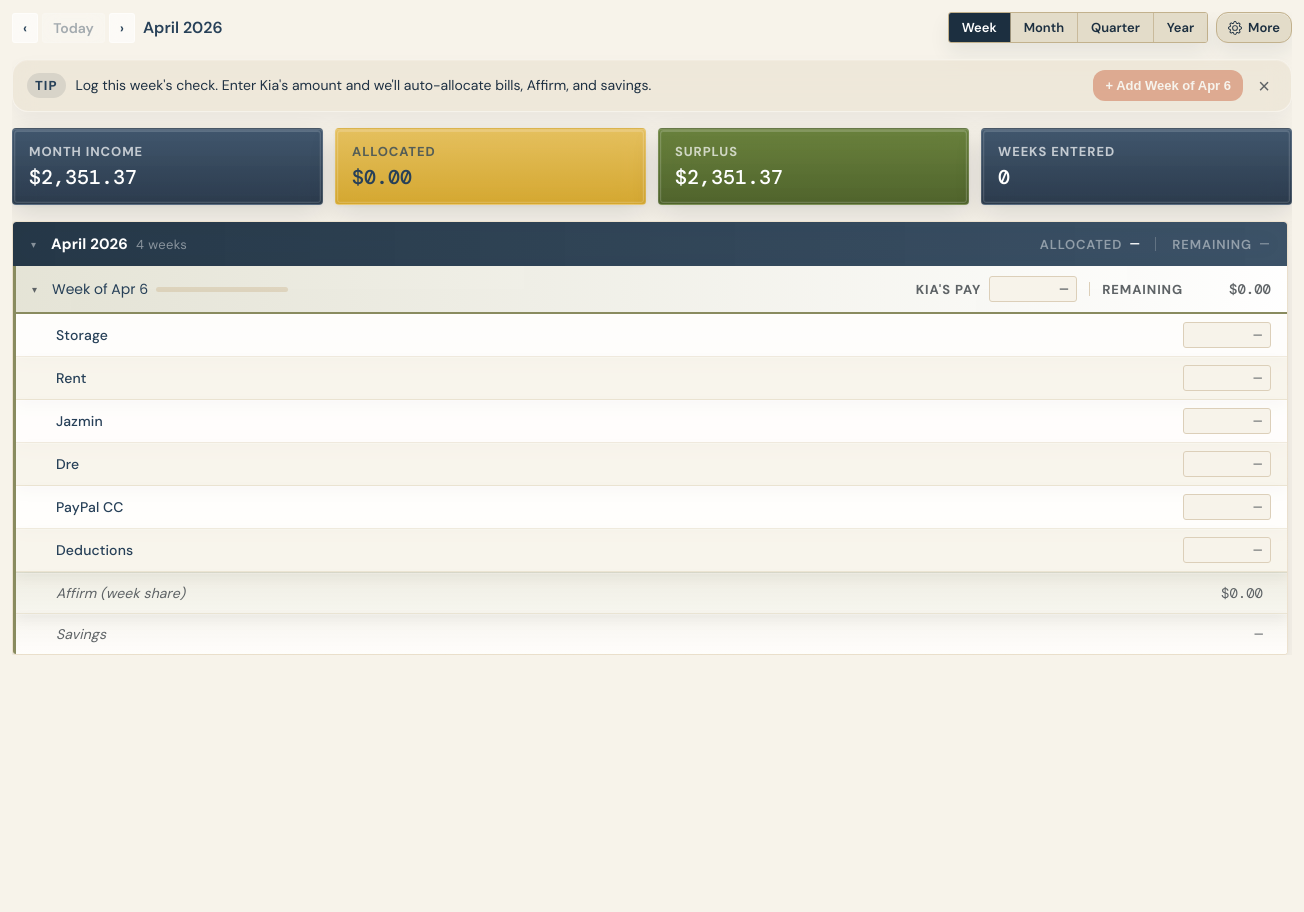
Scenario: PaycheckTab — navigation (weekly + today branches) › crosses month boundary navigating prev in weekly view (lines 184-185)
The image size is (1304, 912).
Step 1. Click the button named "Previous week" → [25, 28], box [12,12,38,42]
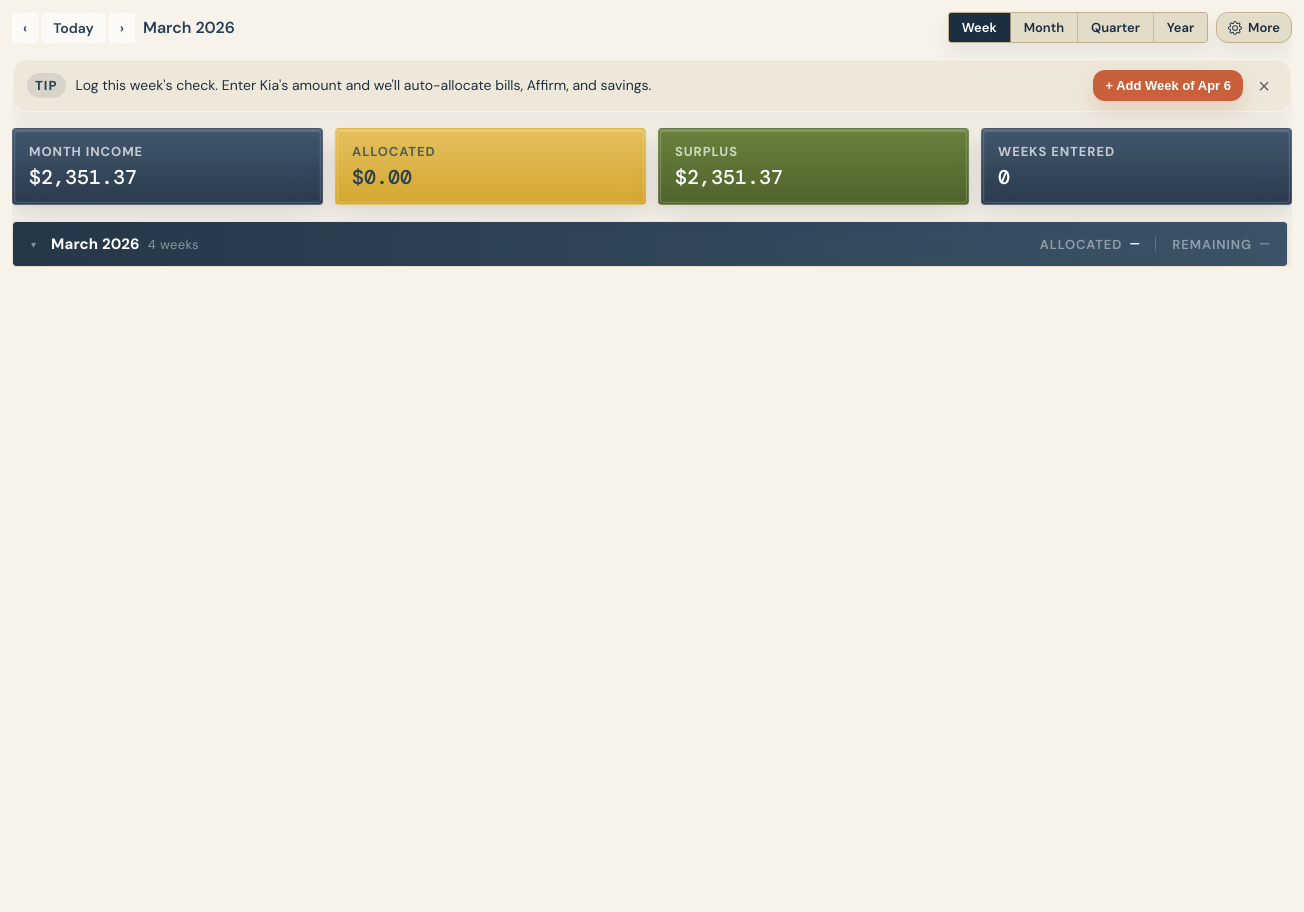
Expected: the heading "March 2026" is shown, [143,17,235,38]
